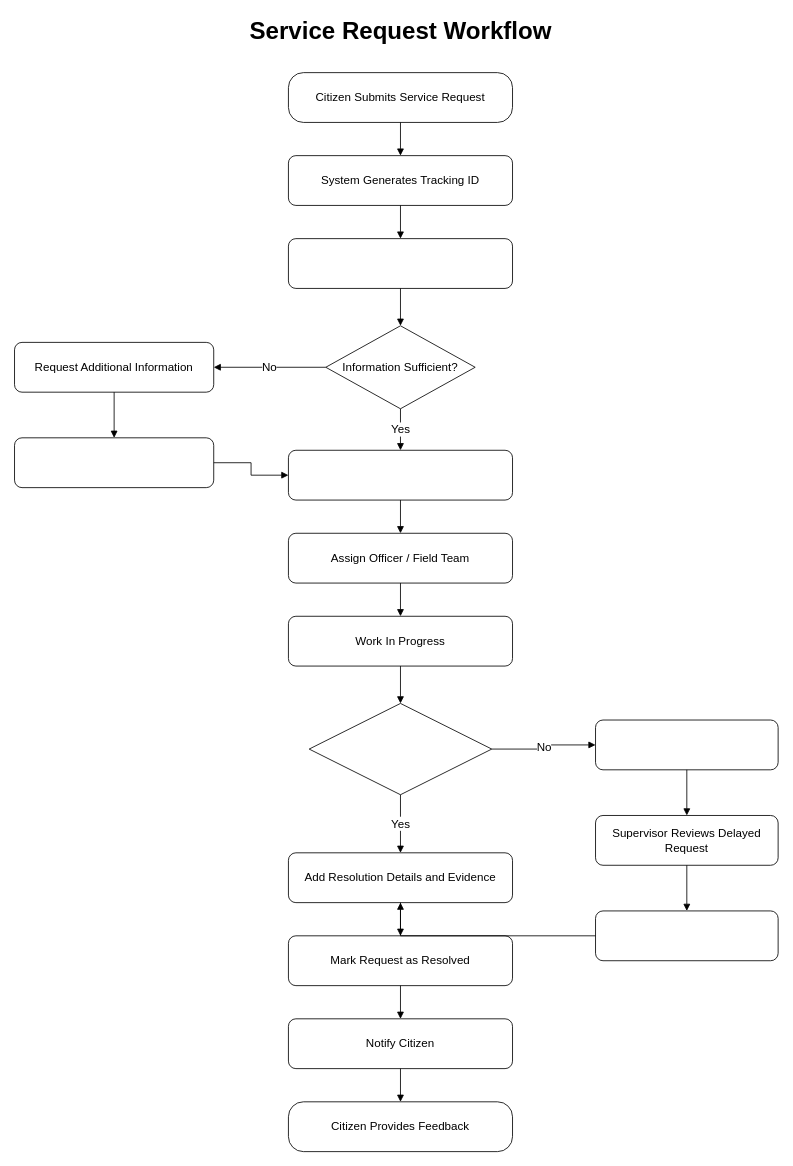
Image size: 793x1166. Some labels were removed from this diagram. The shapes that lost their labels are listed below. From the top down, each one's box as (x1, y1, x2, y2) in pixels, then its label:
(288, 238, 513, 288): Municipal Officer Reviews Request
(14, 437, 214, 488): Citizen Provides Missing Information
(288, 449, 513, 500): Assign Responsible Department
(308, 703, 492, 795): Completed Within Expected Time?
(595, 719, 778, 770): Record Delay Reason
(595, 910, 778, 961): Continue Required Work
